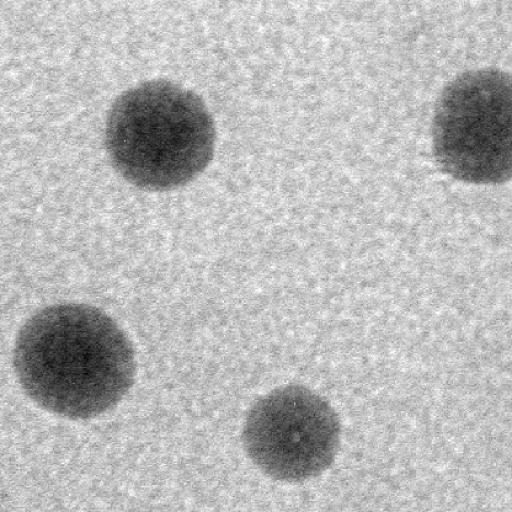Nanoparticles: (12, 300, 140, 420), (102, 79, 218, 192), (243, 381, 341, 485), (431, 66, 512, 180)
